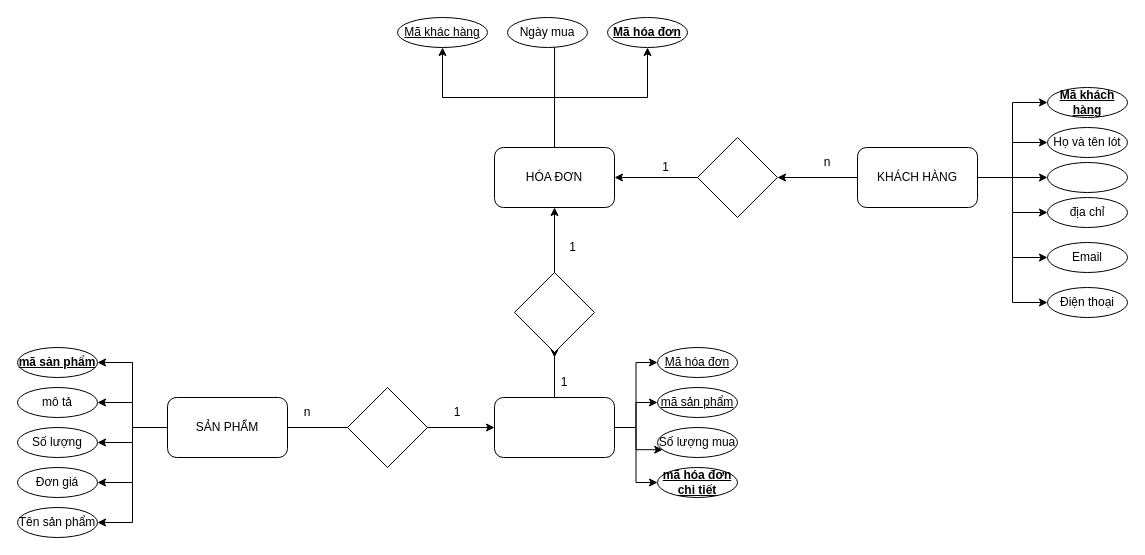
This 1145x555 diagram has some shape labels left out. Each missing label, with the centre of its shape:
HÓA ĐƠN CHI TIẾT: pixel 554 427
Nằm trong: pixel 554 312
Tên: pixel 1087 177
Tạo ra: pixel 737 177
Được bán: pixel 387 427
